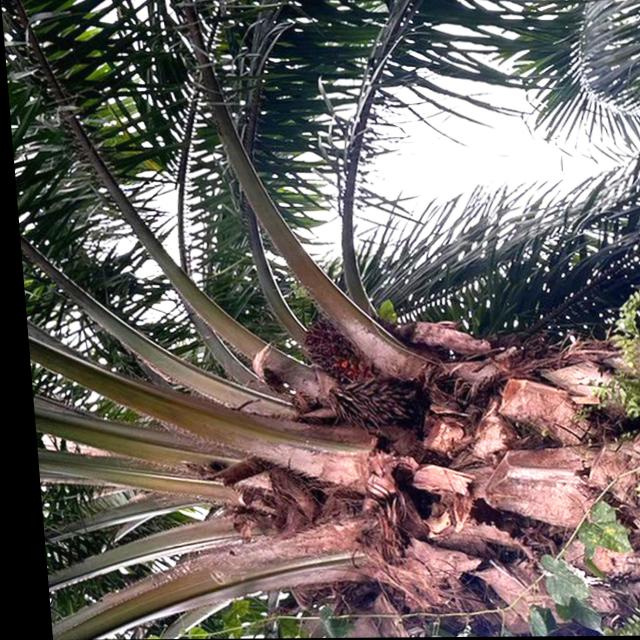ripe: (286, 312, 374, 393)
